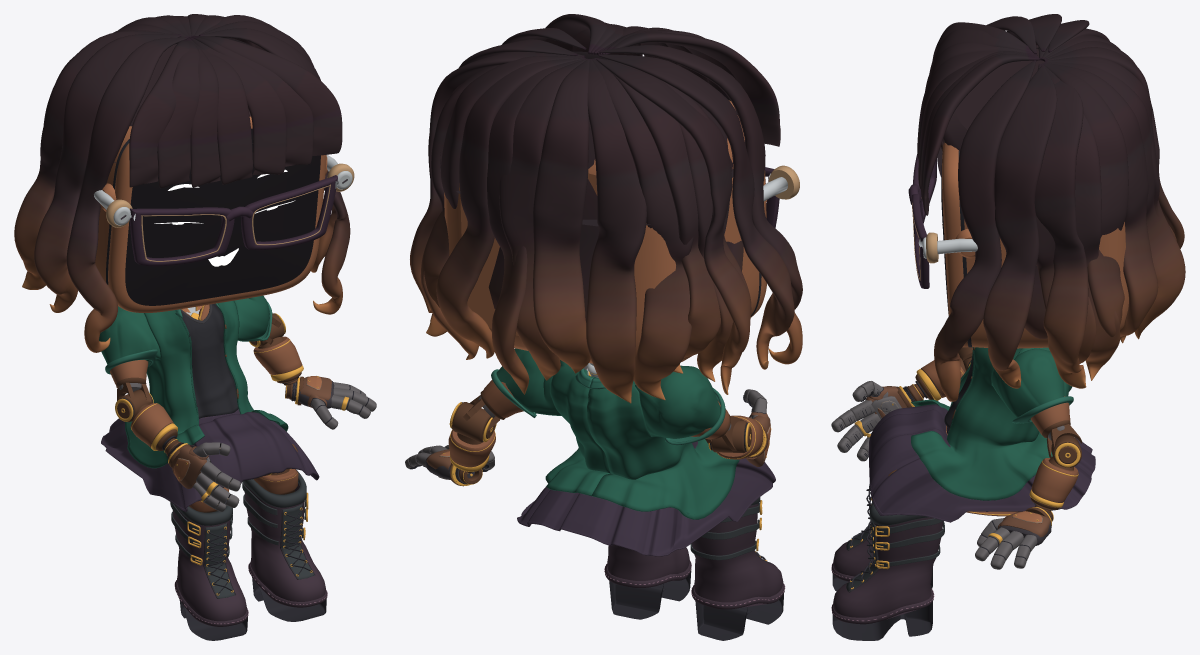
Rendered from skye-seated.glb.
3 renders of one model, left to right at view 1: azimuth 30°, elevation 25°; view 2: azimuth 150°, elevation 25°; view 3: azimuth 270°, elevation 25°, orthographic. The views are drawn at different scales.
Parts seen in each view (by area): view 1: Skye_hair, Skye_body, Skye_head; view 2: Skye_hair, Skye_body, Skye_head; view 3: Skye_hair, Skye_body, Skye_head.
Boxes of the visible parts, x1,y1,x2,y2 form: Skye_hair: [14, 14, 350, 352]; Skye_body: [99, 295, 376, 640]; Skye_head: [94, 116, 354, 312]; Skye_hair: [410, 14, 802, 403]; Skye_body: [405, 348, 785, 640]; Skye_head: [444, 100, 799, 365]; Skye_hair: [917, 14, 1185, 401]; Skye_body: [831, 347, 1095, 640]; Skye_head: [908, 142, 1128, 348].
Bounding box in the file's own units: 1.01 × 1.56 × 0.8813.
Materials: 4 (4 with a texture image).
